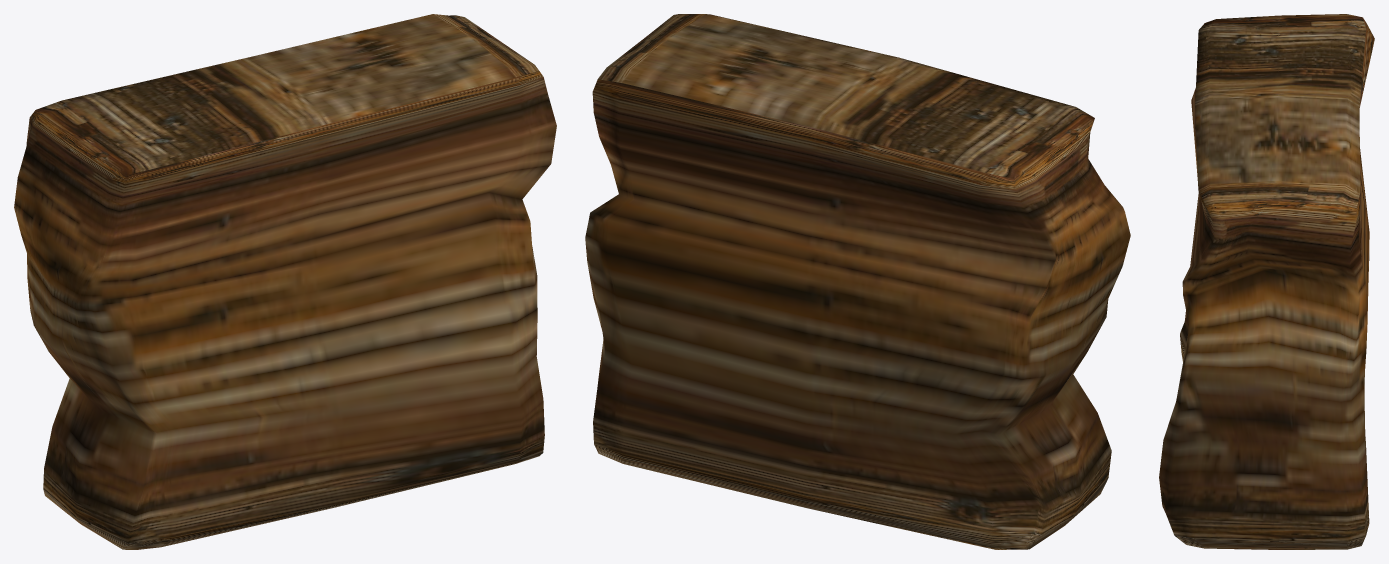
The model's file is Button_03x03.glb.
3 renders of one model, left to right at view 1: azimuth 30°, elevation 25°; view 2: azimuth 150°, elevation 25°; view 3: azimuth 270°, elevation 25°, orthographic. The views are drawn at different scales.
Visible parts, largest first — view 1: 0.3х0.3; view 2: 0.3х0.3; view 3: 0.3х0.3.
Part boxes in pixels (box(x1,y1,x2,y2)): 0.3х0.3: box(14, 14, 556, 549); 0.3х0.3: box(585, 14, 1130, 549); 0.3х0.3: box(1159, 14, 1374, 549).
Size of the model in its own units: 0.7619 by 0.6112 by 0.3298.
1 material, 1 textured.
